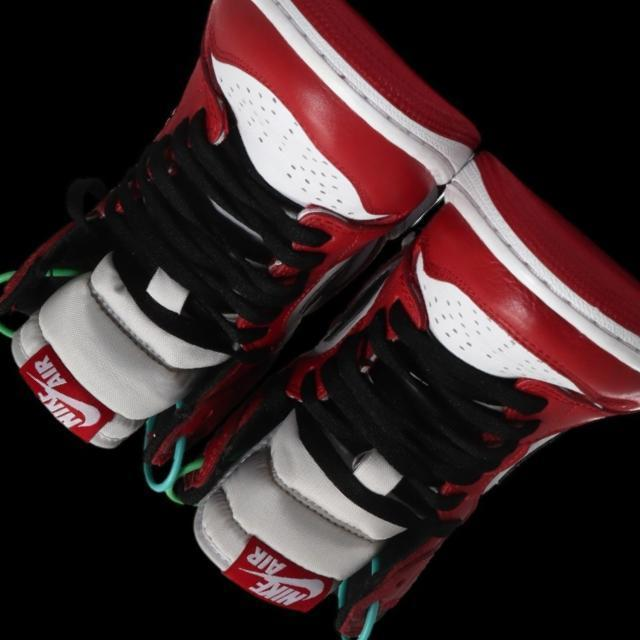nike original jordan 1: (0, 0, 493, 511), (145, 134, 640, 640)
